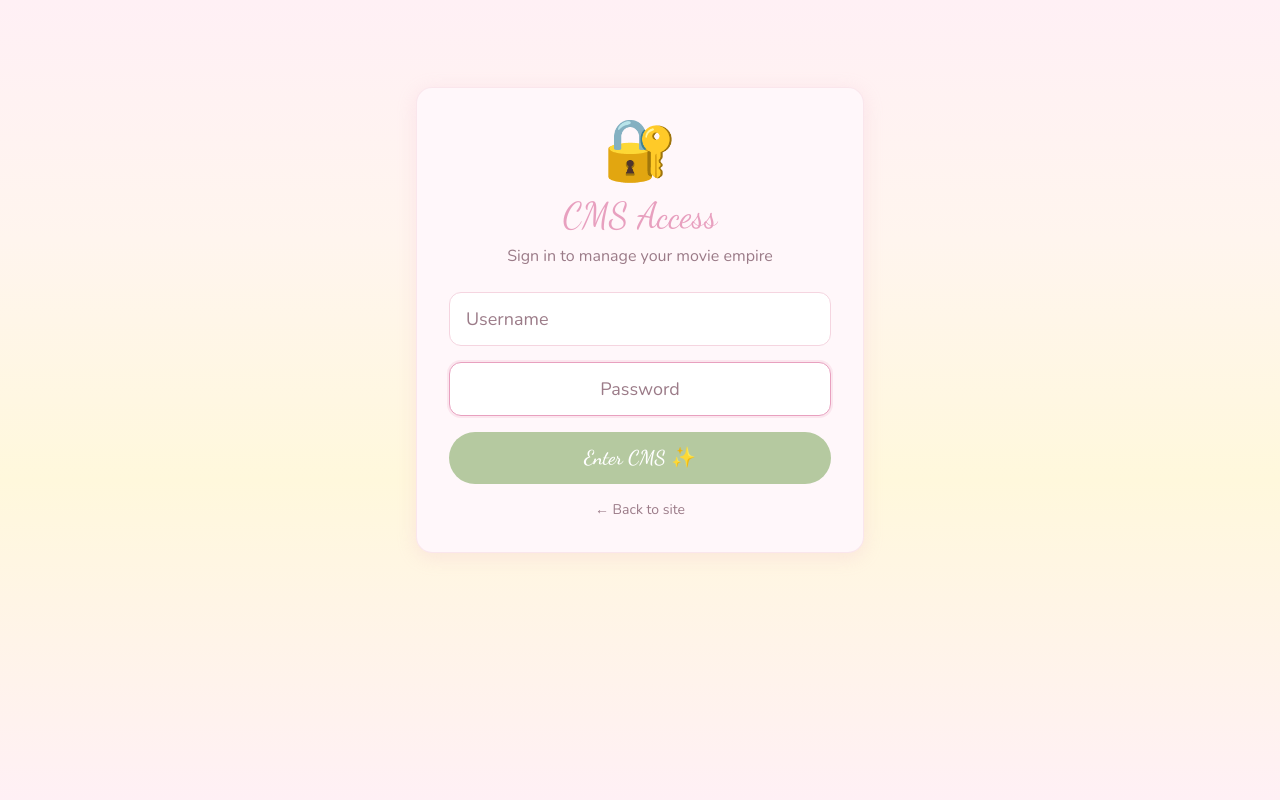
Admin Component — Authentication › Login Flow › shows error message on wrong credentials
In the field with placeholder "Username": (640, 319) [449,292,831,346], type "wronguser"
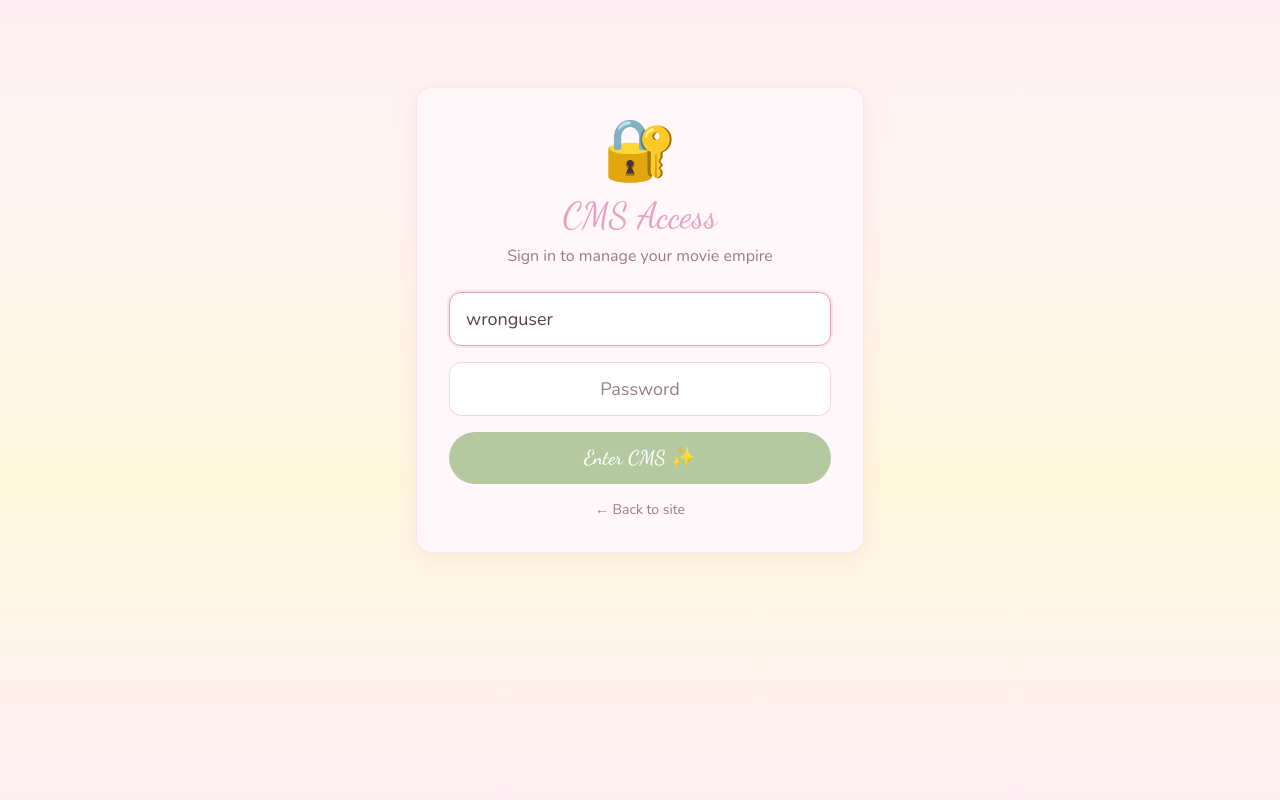
In the password field with placeholder "Password": (640, 389) [449,362,831,416], type "wrongpass"
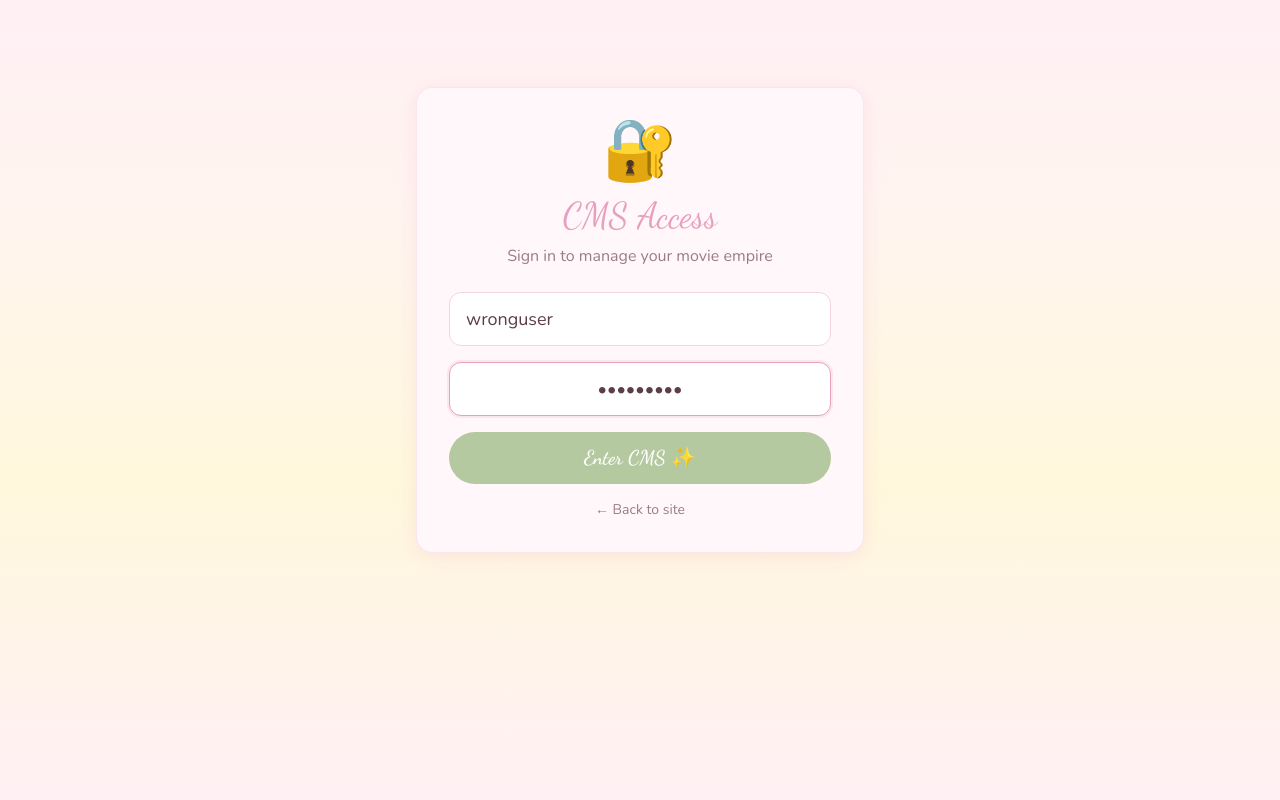
Click the button: (640, 458) [449,432,831,484]
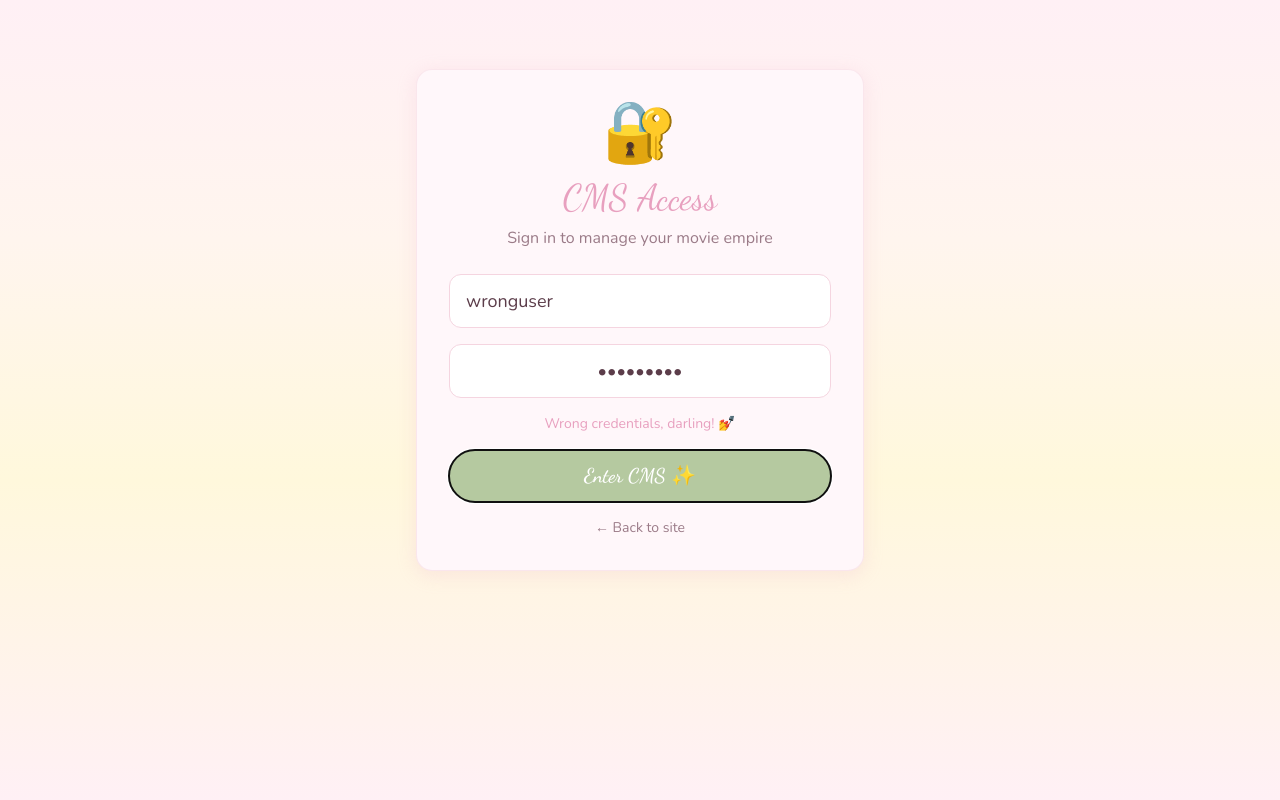
Expected: the text "Wrong credentials, darling! 💅" is shown, [544,414,736,433]
